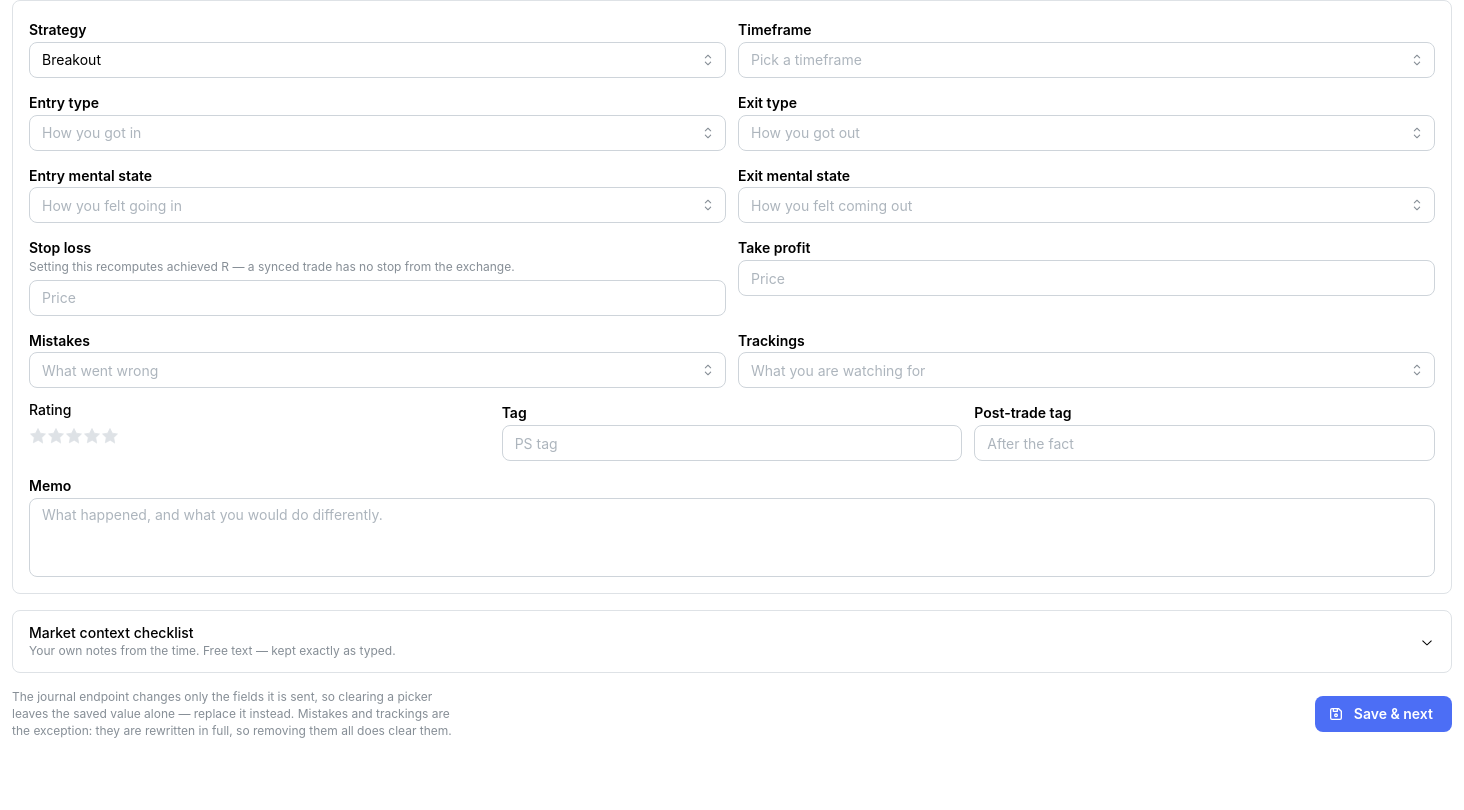
Test: JournalForm › lands a 400 field error on the input it names, whatever its casing
Click the button "Save & next" at (1383, 714), box [1315, 696, 1452, 732]
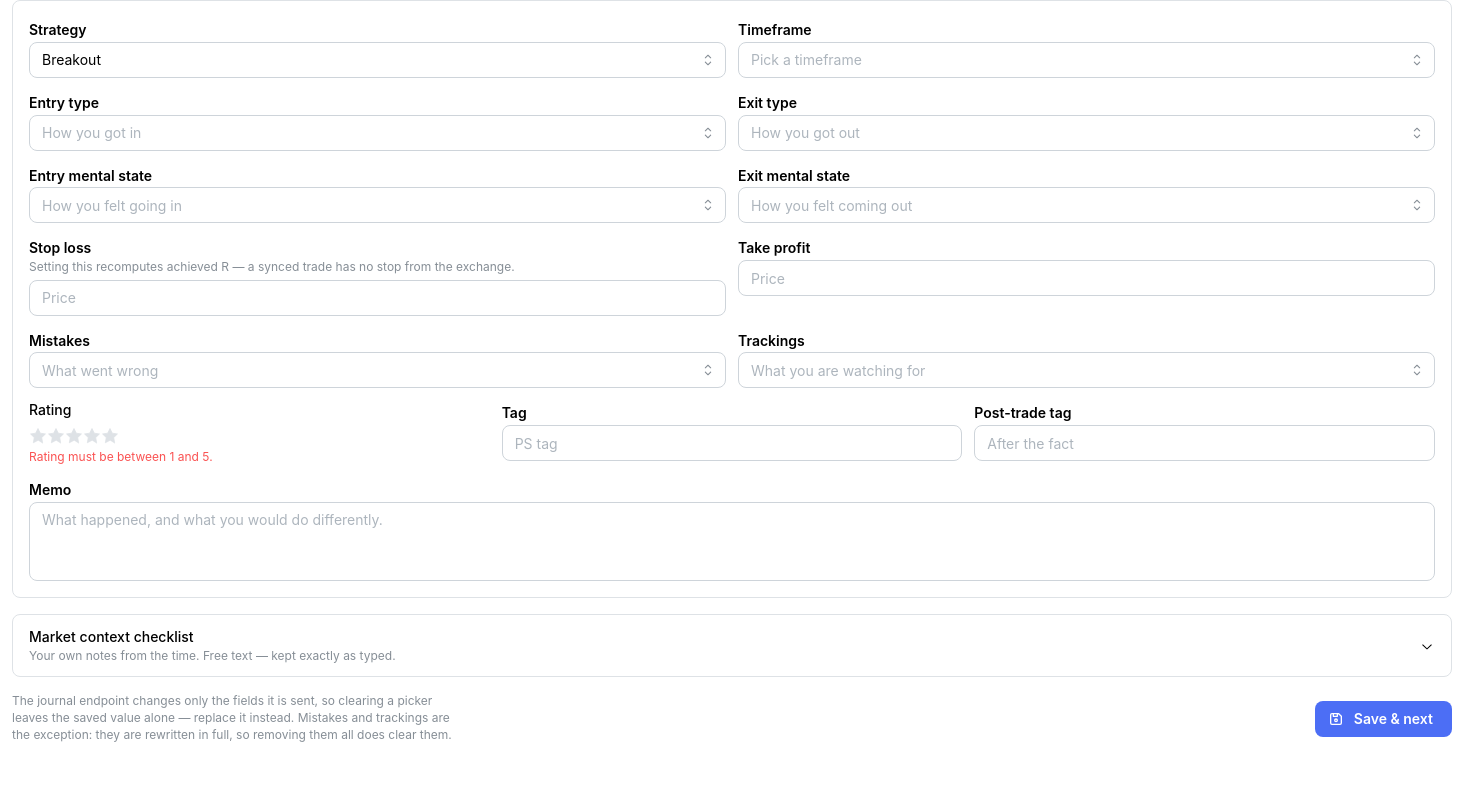
Check: the text "Rating must be between 1 and 5." is shown, box [29, 449, 213, 464]
